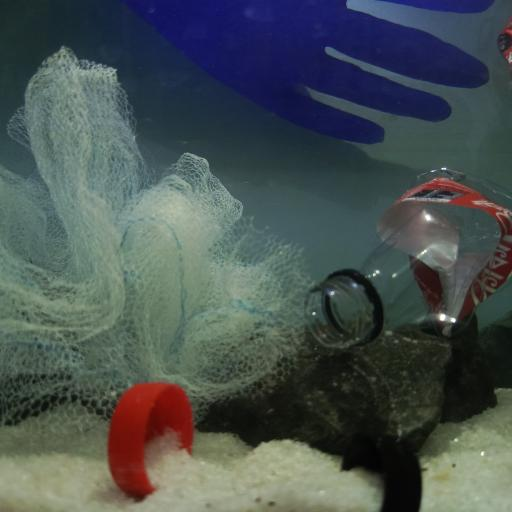bottle_cap: (108, 380, 202, 498), (342, 434, 422, 512)
glove: (122, 0, 497, 146)
net: (0, 45, 321, 424)
plastic_bottle: (304, 165, 512, 349)
